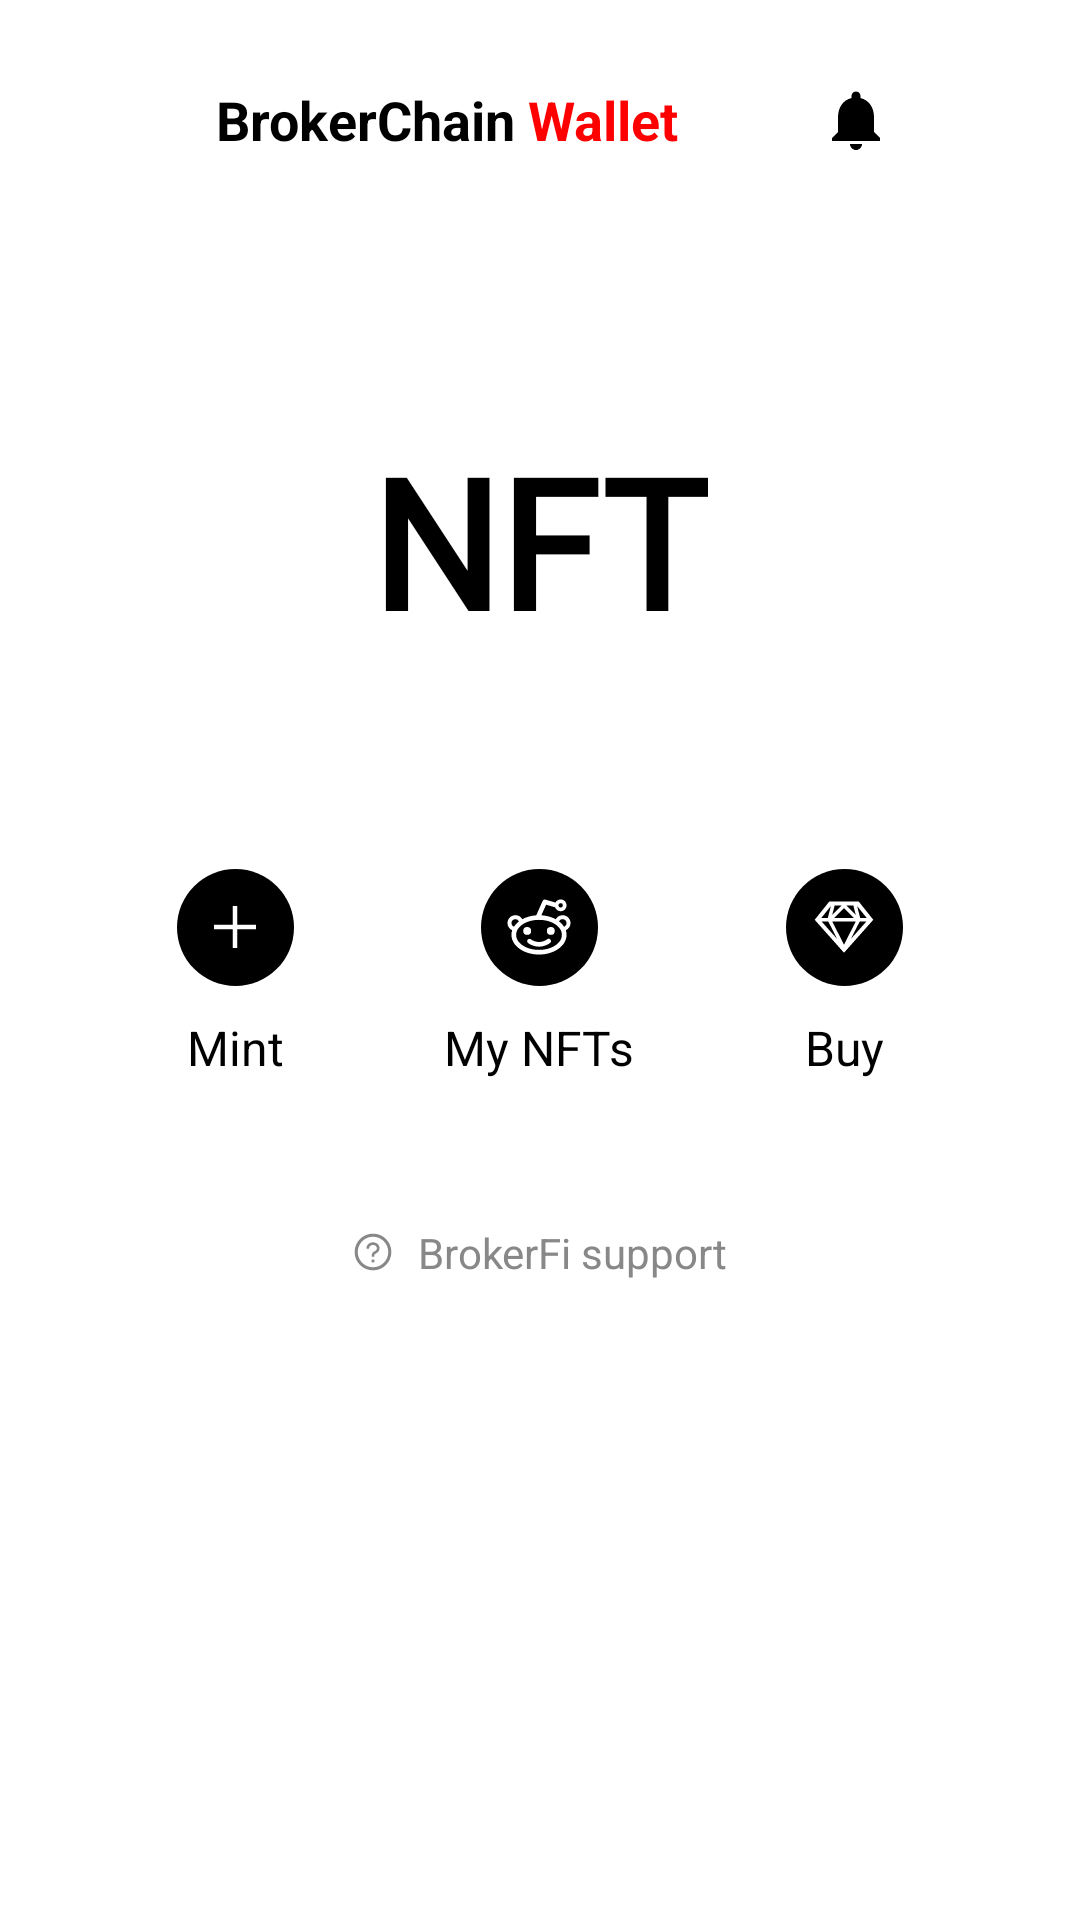

Icons on this 1080 × 1920 Android screen, each with the point to tap as (x=x, y=y):
Notifications: (x=856, y=120)
plus: (x=235, y=927)
question circle: (x=373, y=1252)
